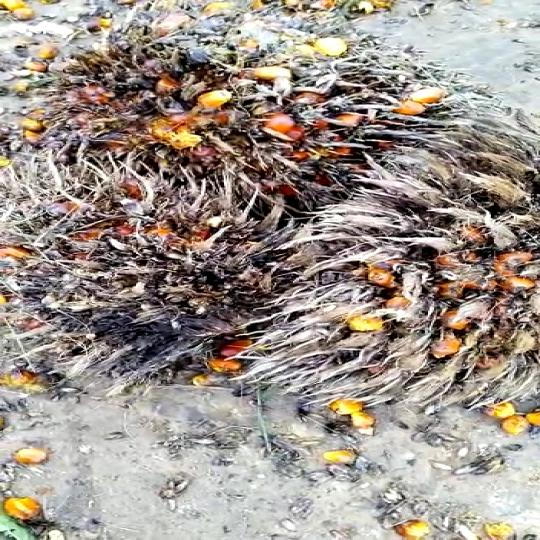terlalu masak: (0, 179, 318, 399), (53, 57, 384, 199)
